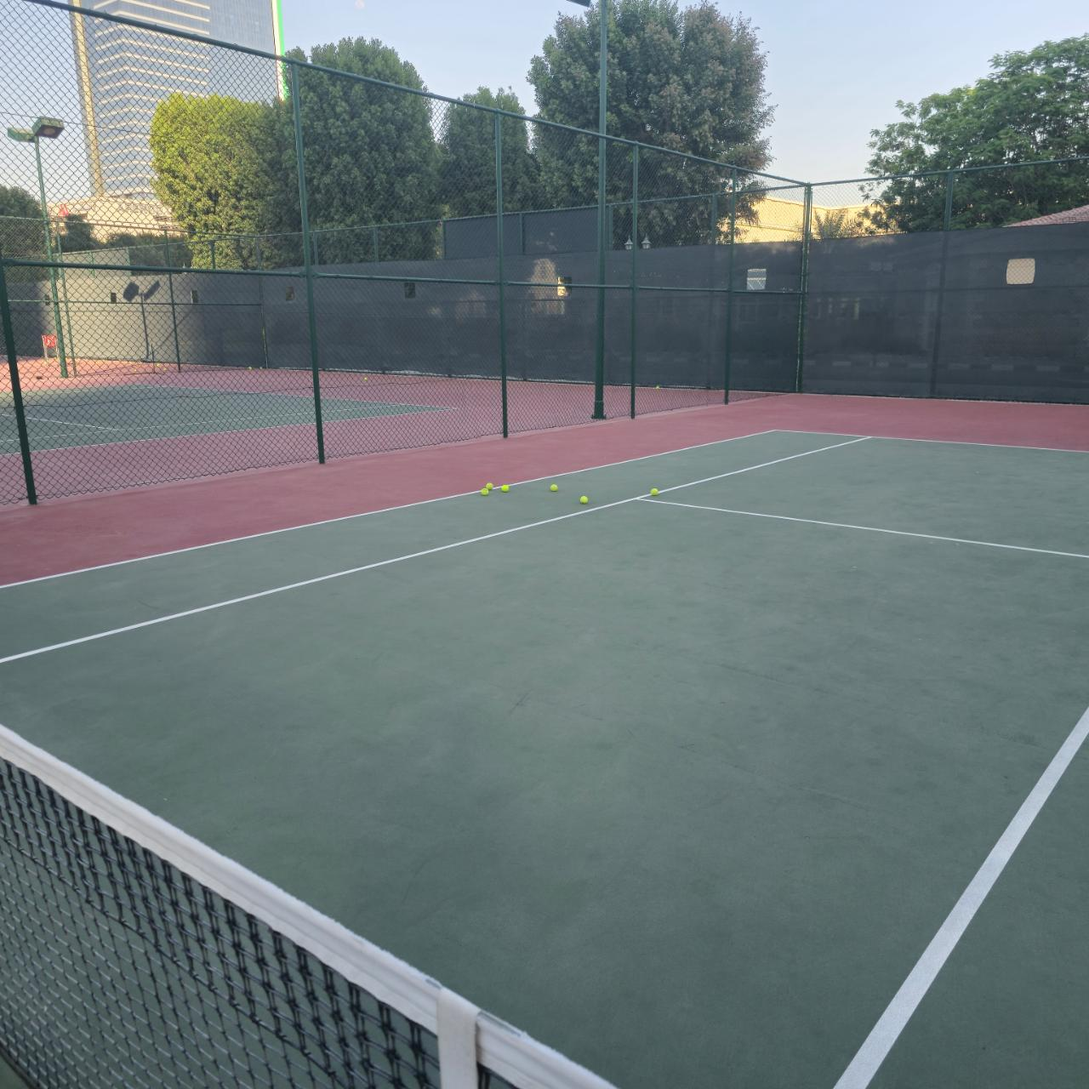tennis-ball: (479, 482, 492, 495), (577, 493, 589, 505), (648, 485, 660, 497), (498, 482, 510, 493), (548, 482, 559, 493)
